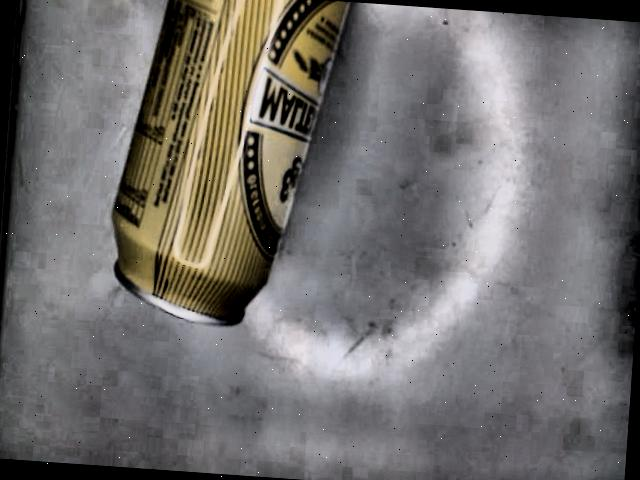Bottles: (111, 0, 353, 326)
